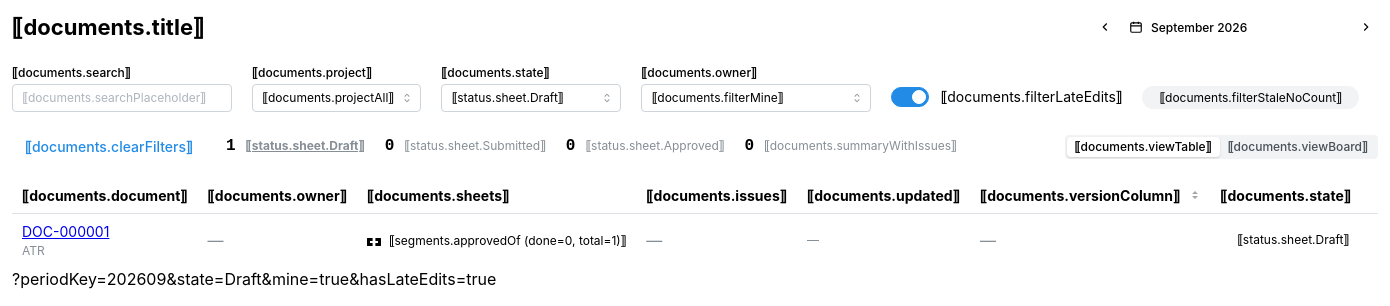
Test: DocumentsPage: «Clear filters» (UI-18) › активні фільтри — кнопка є і скидає ВСІ одним кліком, період лишається
Click the button "⟦documents.clearFilters⟧" at (109, 147), box [12,133,206,161]
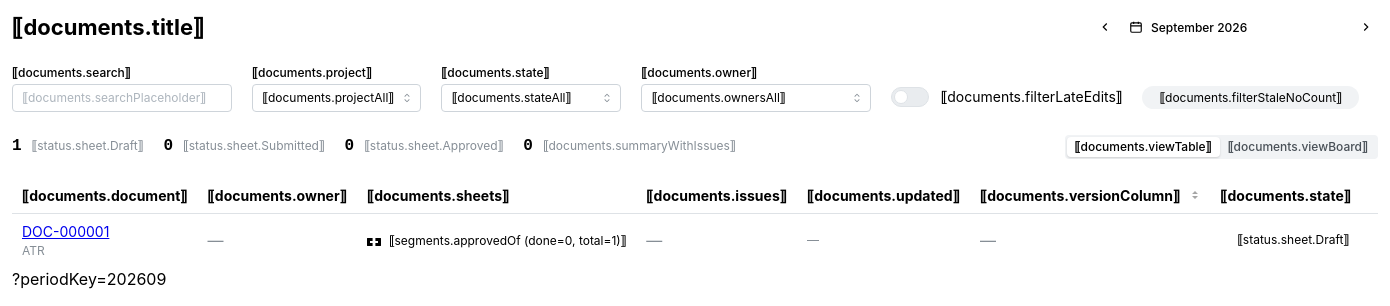
Expected: the text with test id "location" reads "?periodKey=202609", [12,269,166,289]
Expected: the button "⟦documents.clearFilters⟧" is gone
